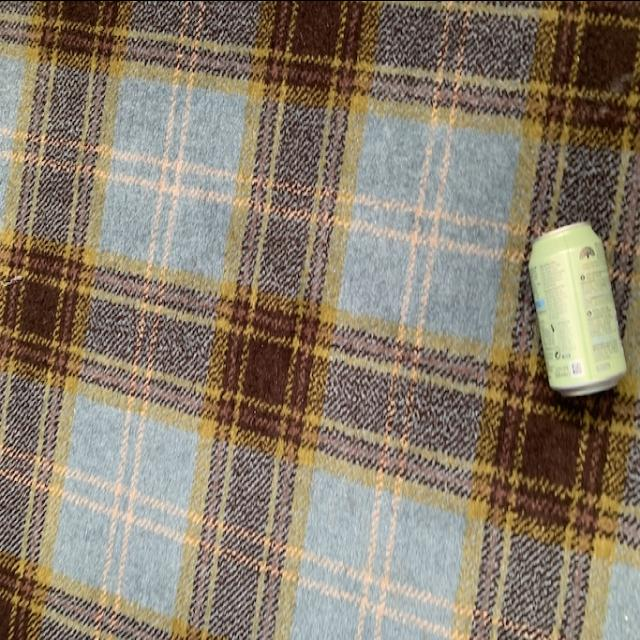Aluminum Can: (527, 216, 627, 402)
